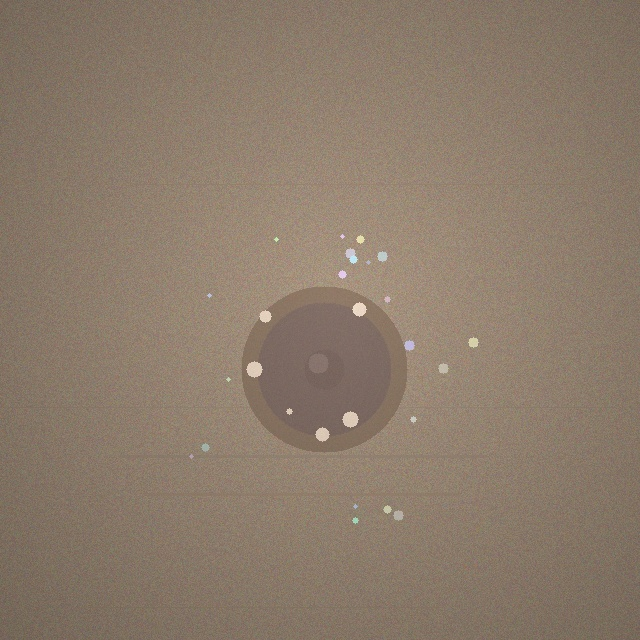overburn: (241, 286, 407, 452)
